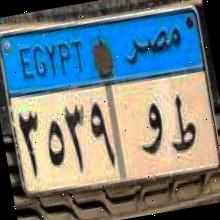3: (14, 104, 49, 181), (62, 102, 94, 174)
5: (41, 115, 70, 172)
9: (86, 96, 118, 173)
Taa: (163, 92, 202, 160)
waw: (132, 102, 169, 158)
